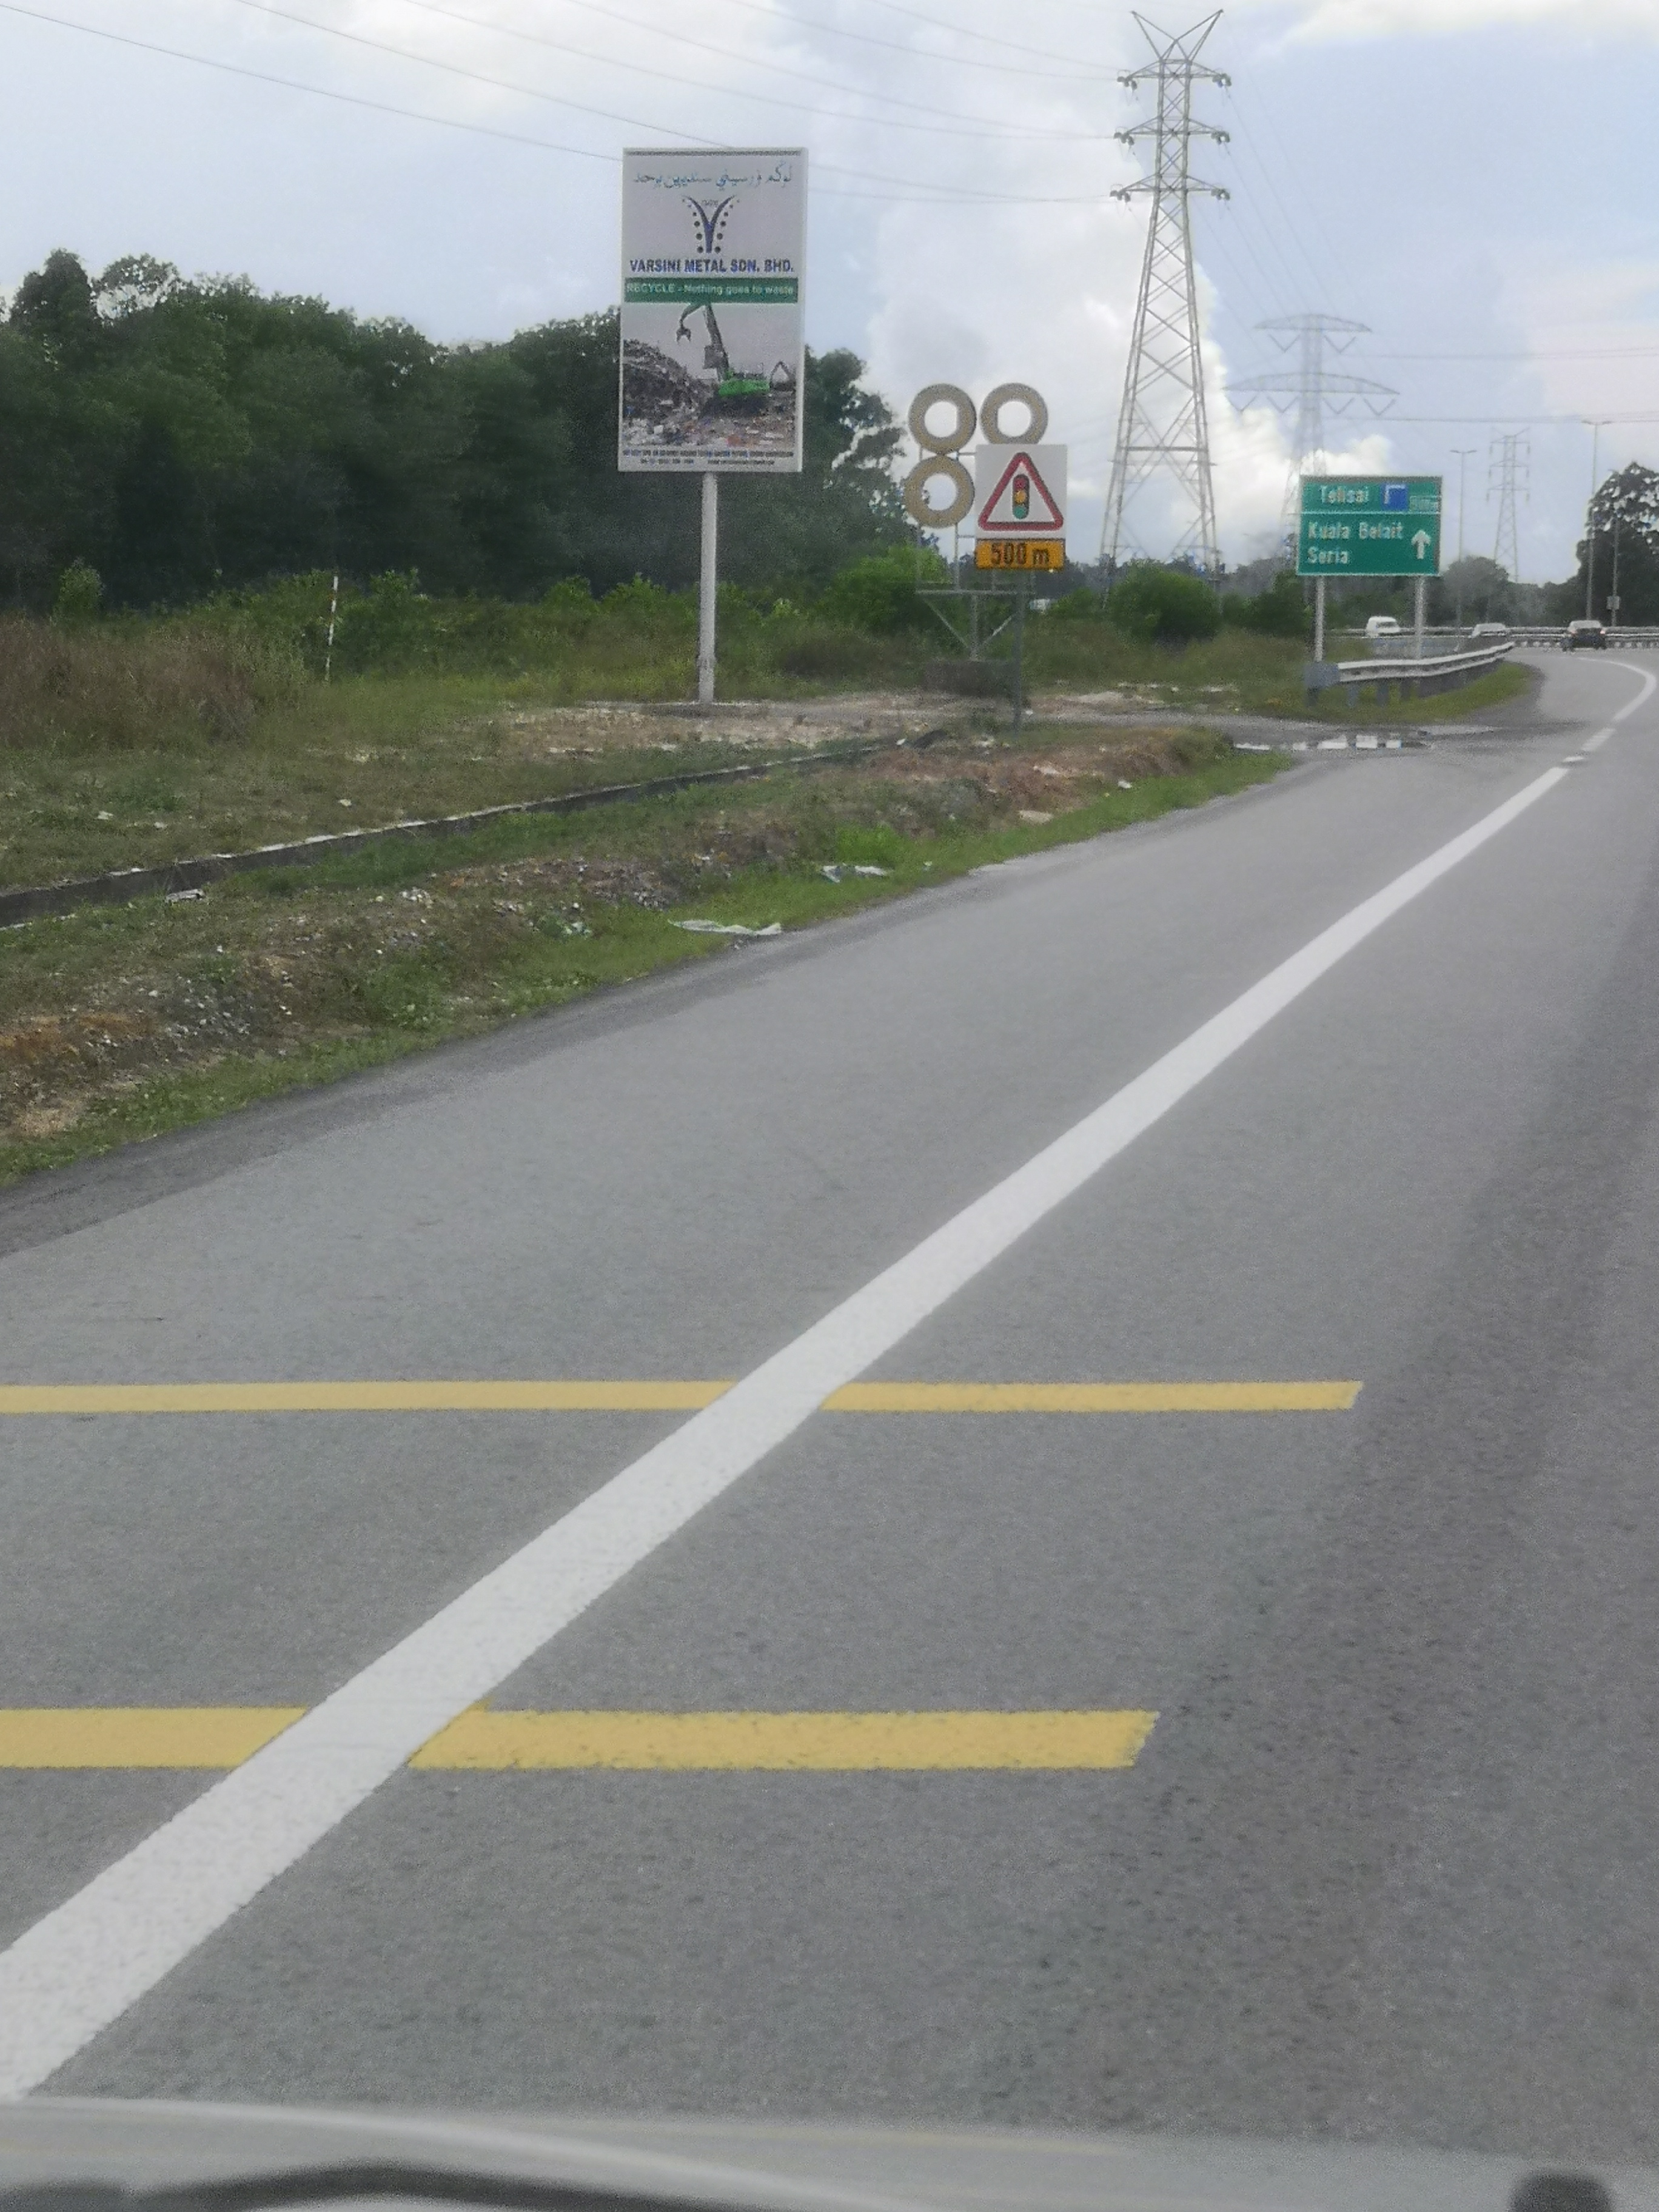500 m: (974, 533, 1075, 570)
traffic signals ahead: (972, 448, 1068, 528)
